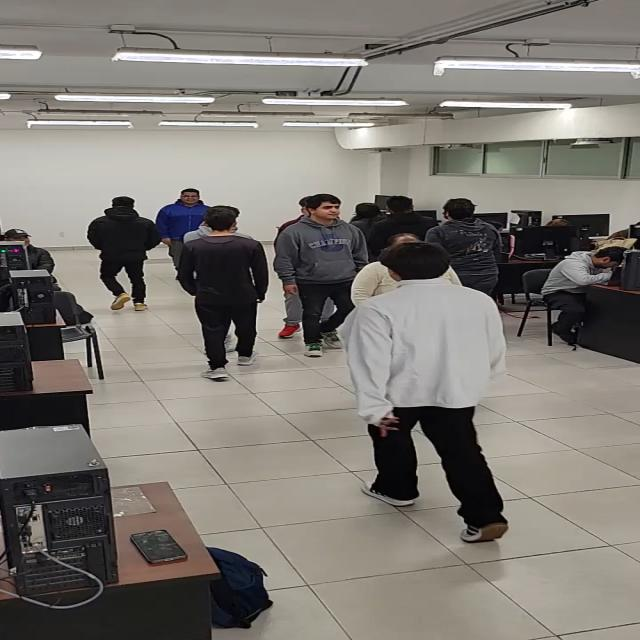Persona: (347, 242, 530, 543), (177, 207, 265, 386), (279, 189, 349, 355), (88, 190, 154, 314), (158, 183, 206, 257)
